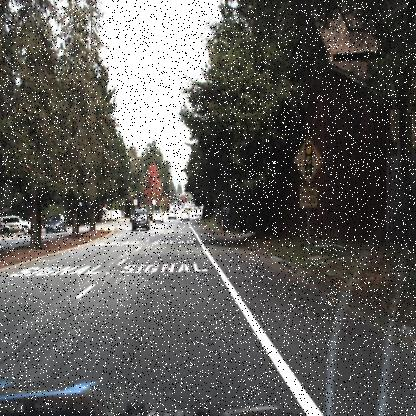car: (42, 209, 71, 238), (0, 214, 32, 236), (127, 206, 150, 233), (177, 205, 193, 227), (150, 204, 164, 223), (167, 207, 177, 223)
